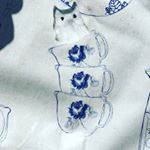cups: (49, 88, 117, 137), (47, 27, 115, 66), (53, 63, 117, 97)
